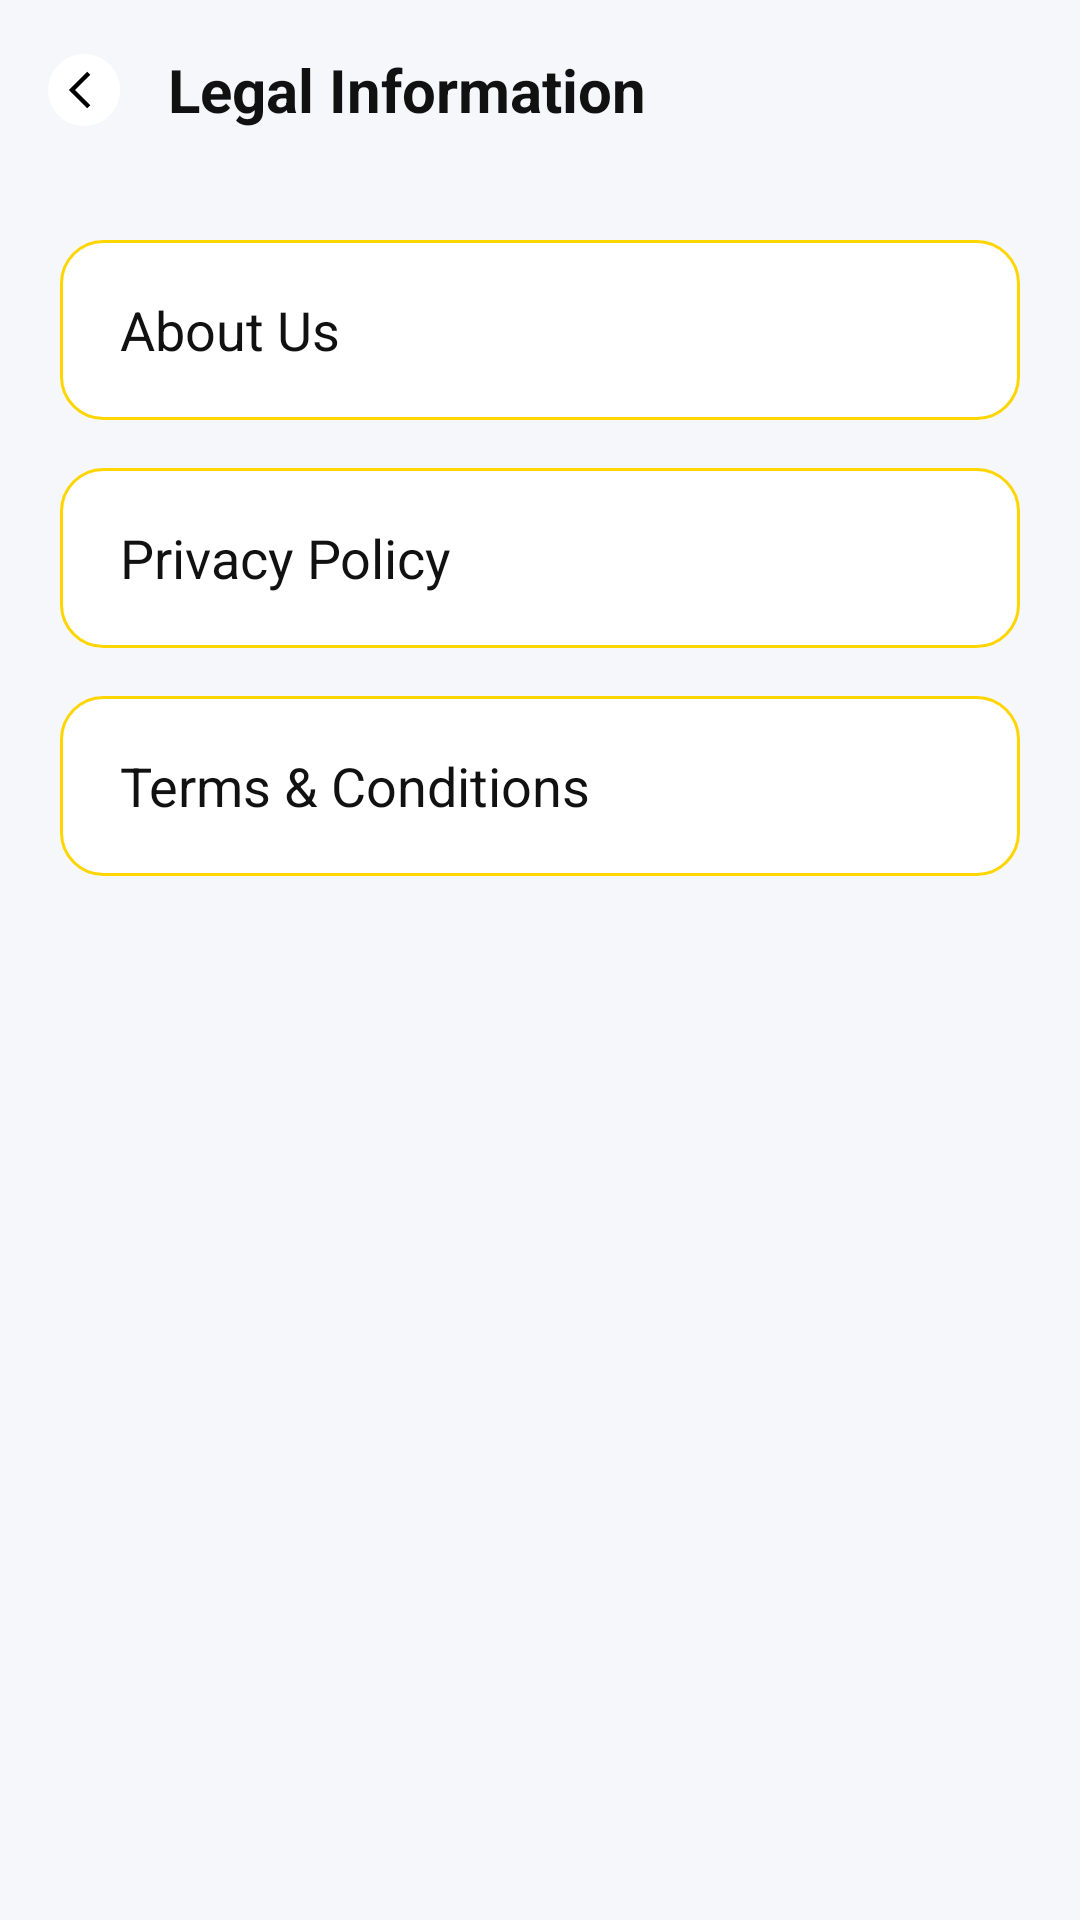

Point at icon controls on the screen. Image size 1080x1920, points as [x,y].
arrow back: [84,90]
